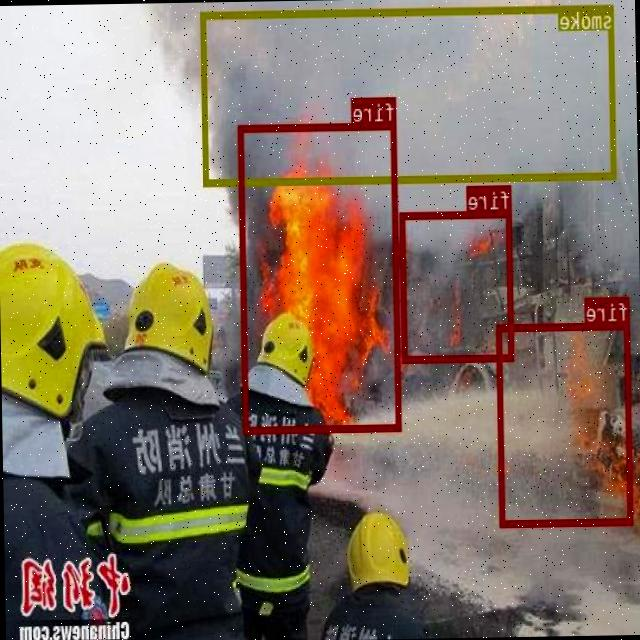fire: (239, 120, 402, 432), (498, 322, 634, 524), (400, 208, 514, 360)
smoke: (202, 4, 616, 185)
